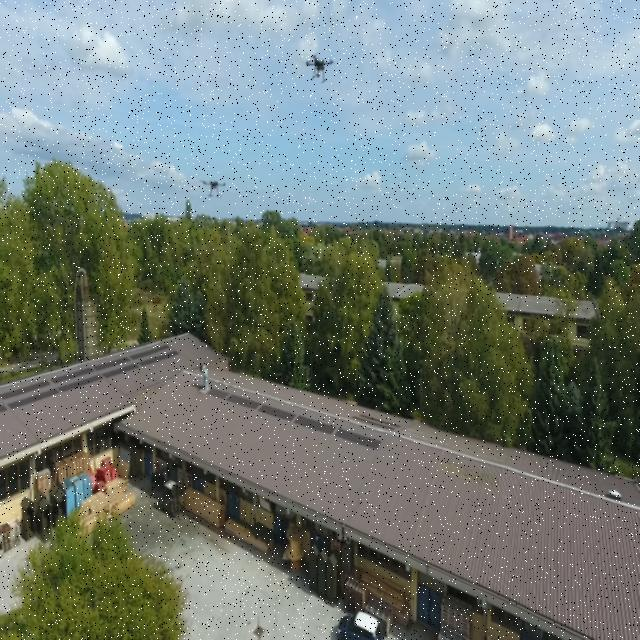UAV: (301, 48, 337, 84), (198, 175, 230, 198)
